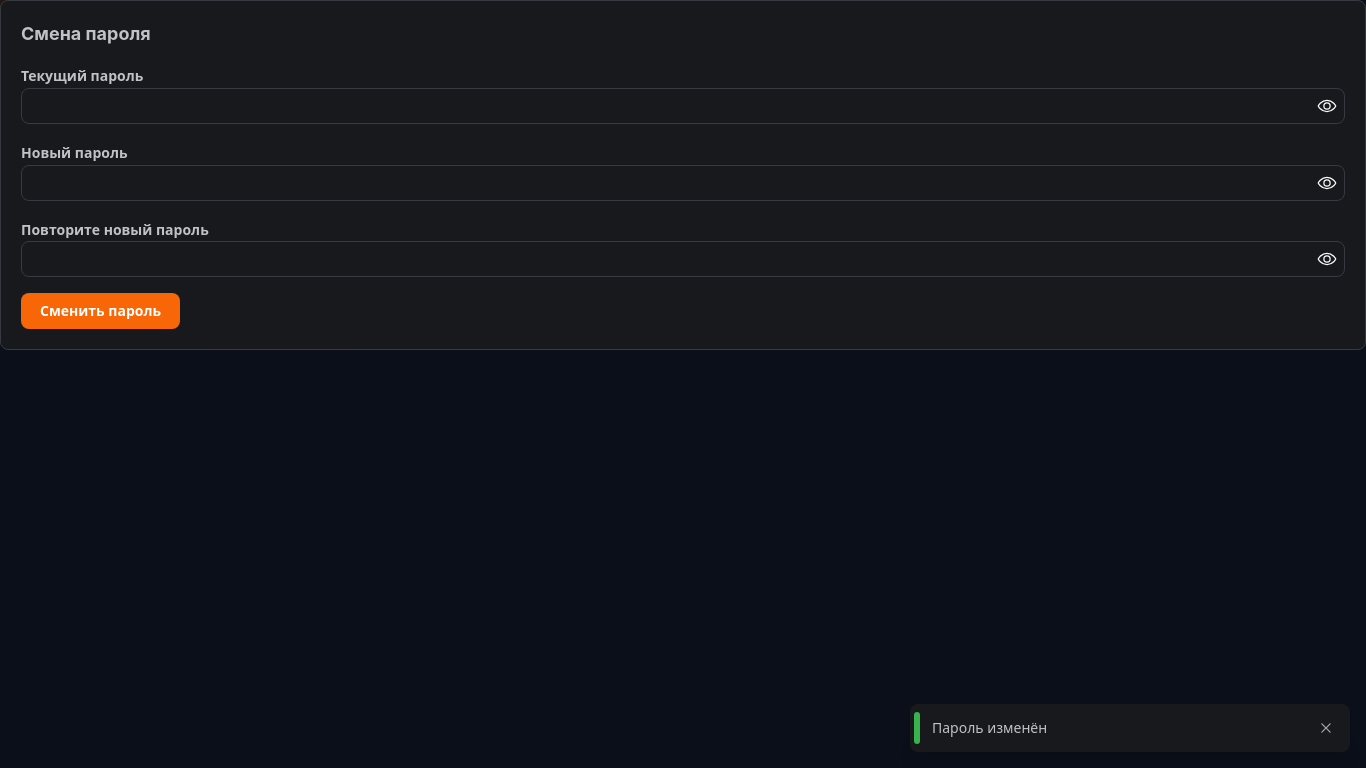
it: ChangePasswordForm › shows a specific error on a wrong current password (401)
Type "wrong" into the password field labelled "Текущий пароль" at x=683, y=106, box [22,89,1344,123]
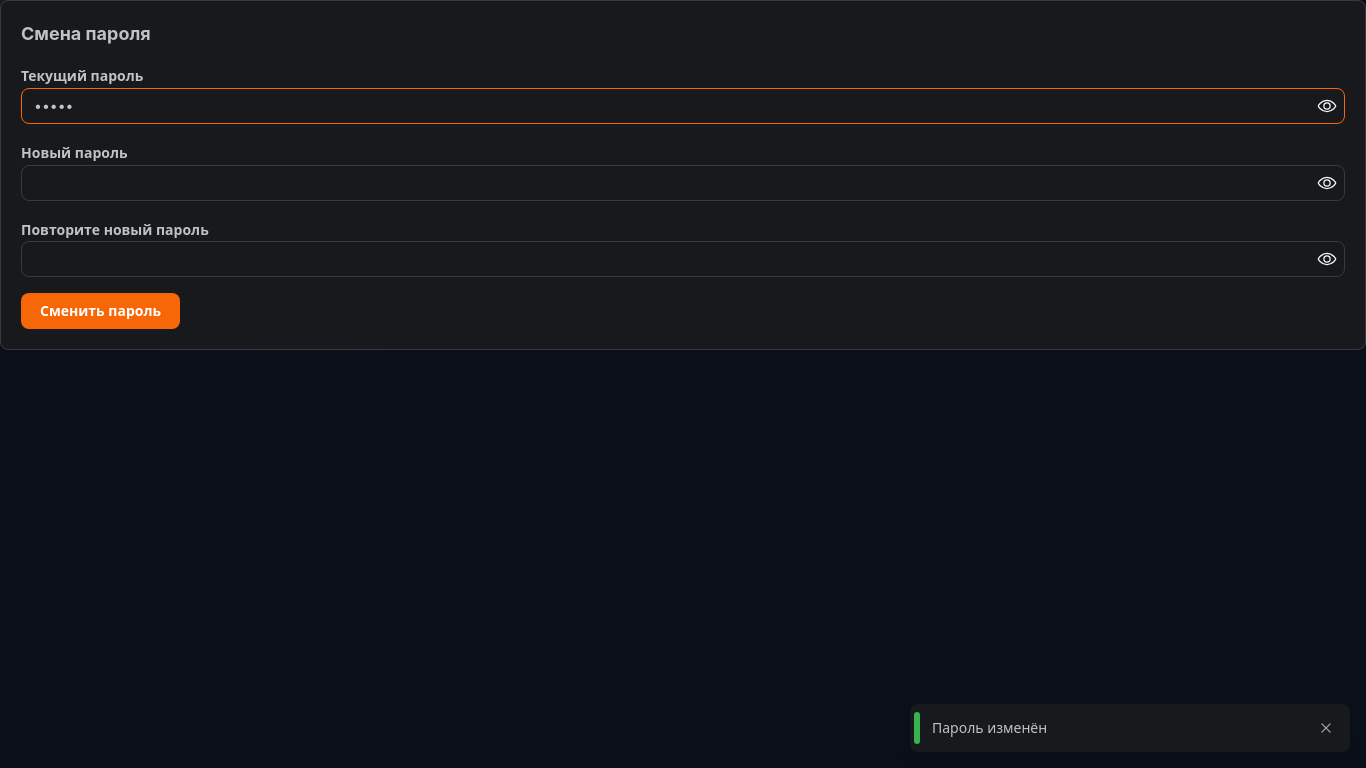
Type "newpass1" into the password field labelled "Новый пароль" at x=683, y=183, box [22,166,1344,200]
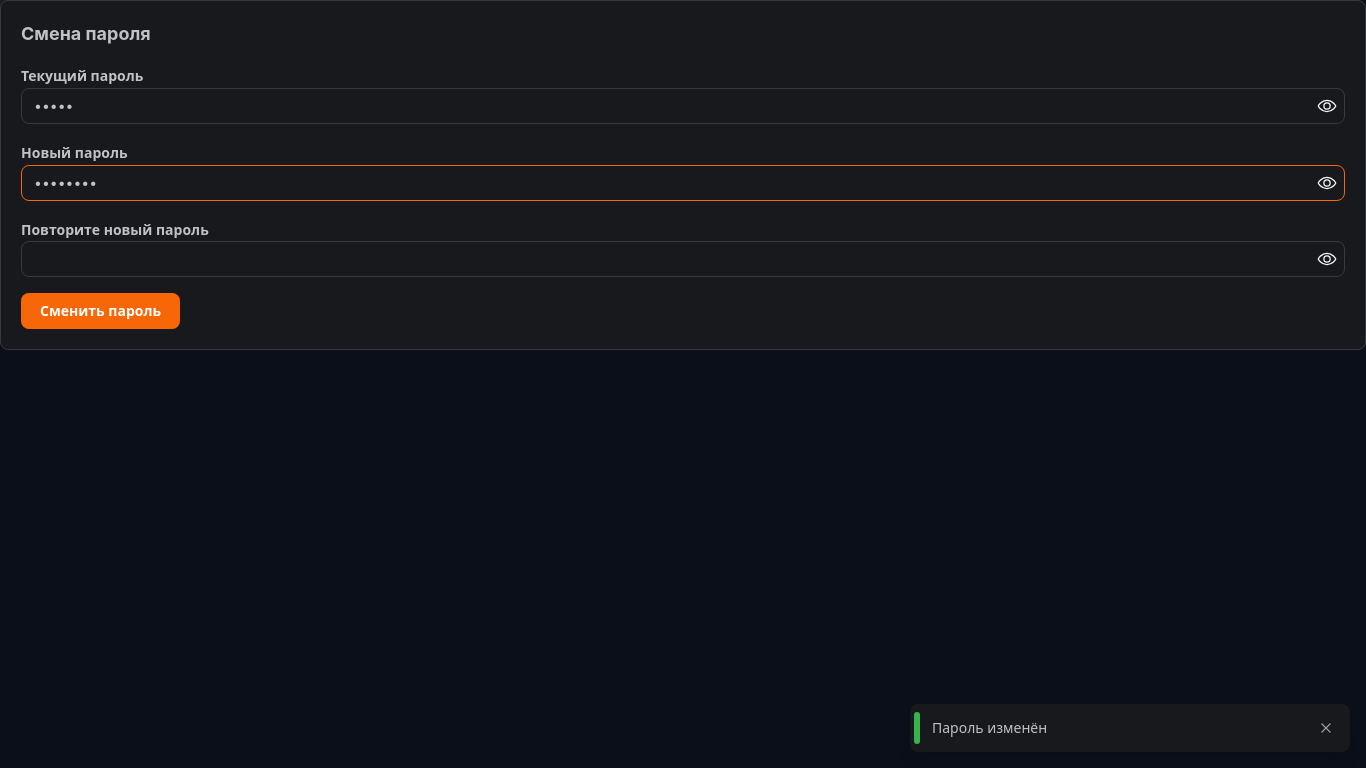
Type "newpass1" into the password field labelled "Повторите новый пароль" at x=683, y=260, box [22,242,1344,276]
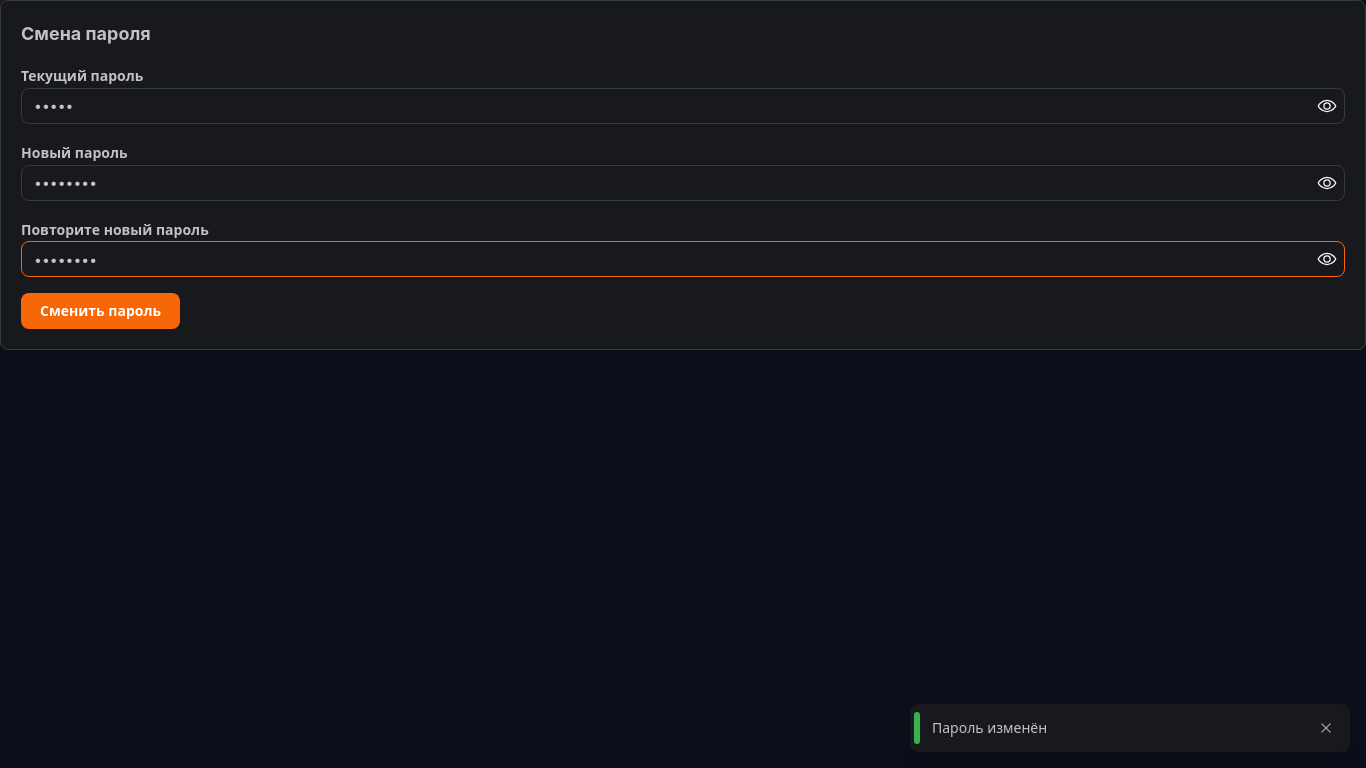
Click the button "Сменить пароль" at x=101, y=312, box [21,294,180,330]
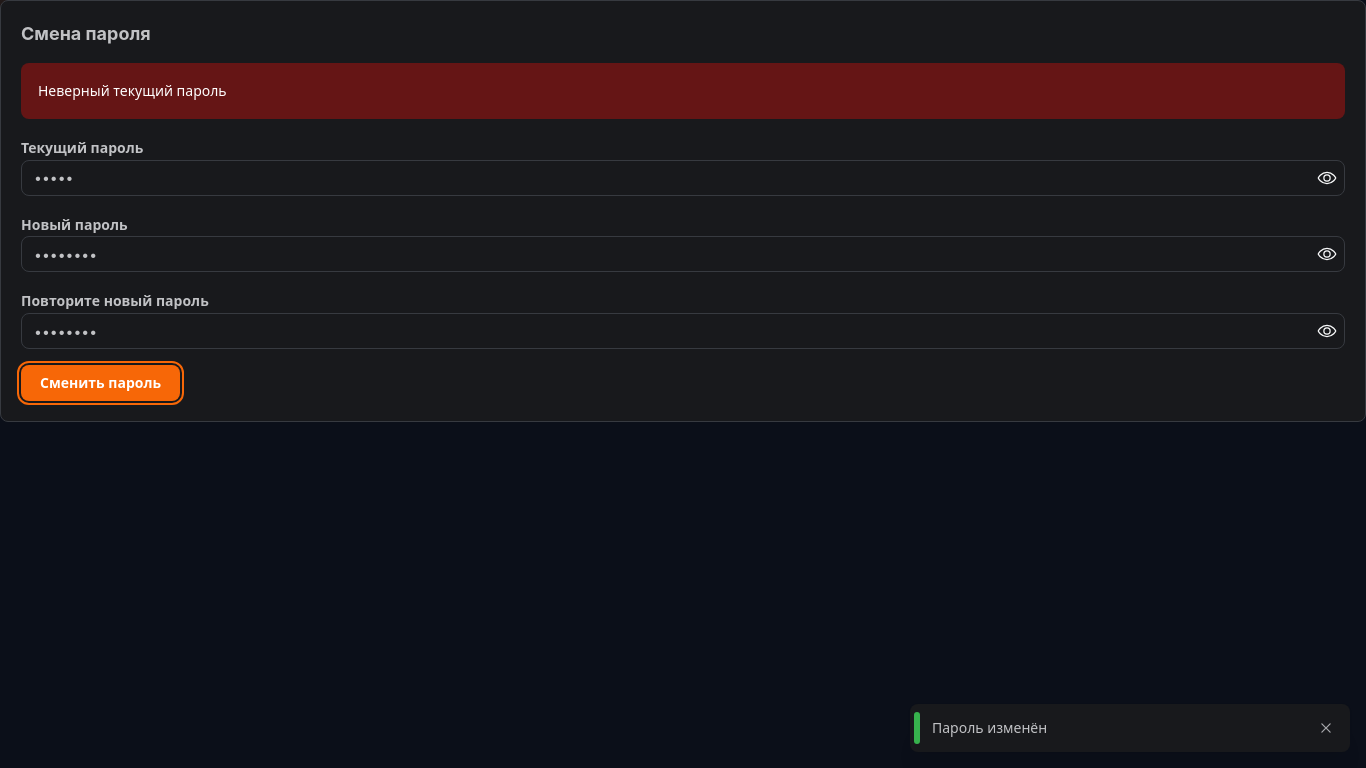
expect the text "Неверный текущий пароль" is shown: met, box [38,81,227,100]
